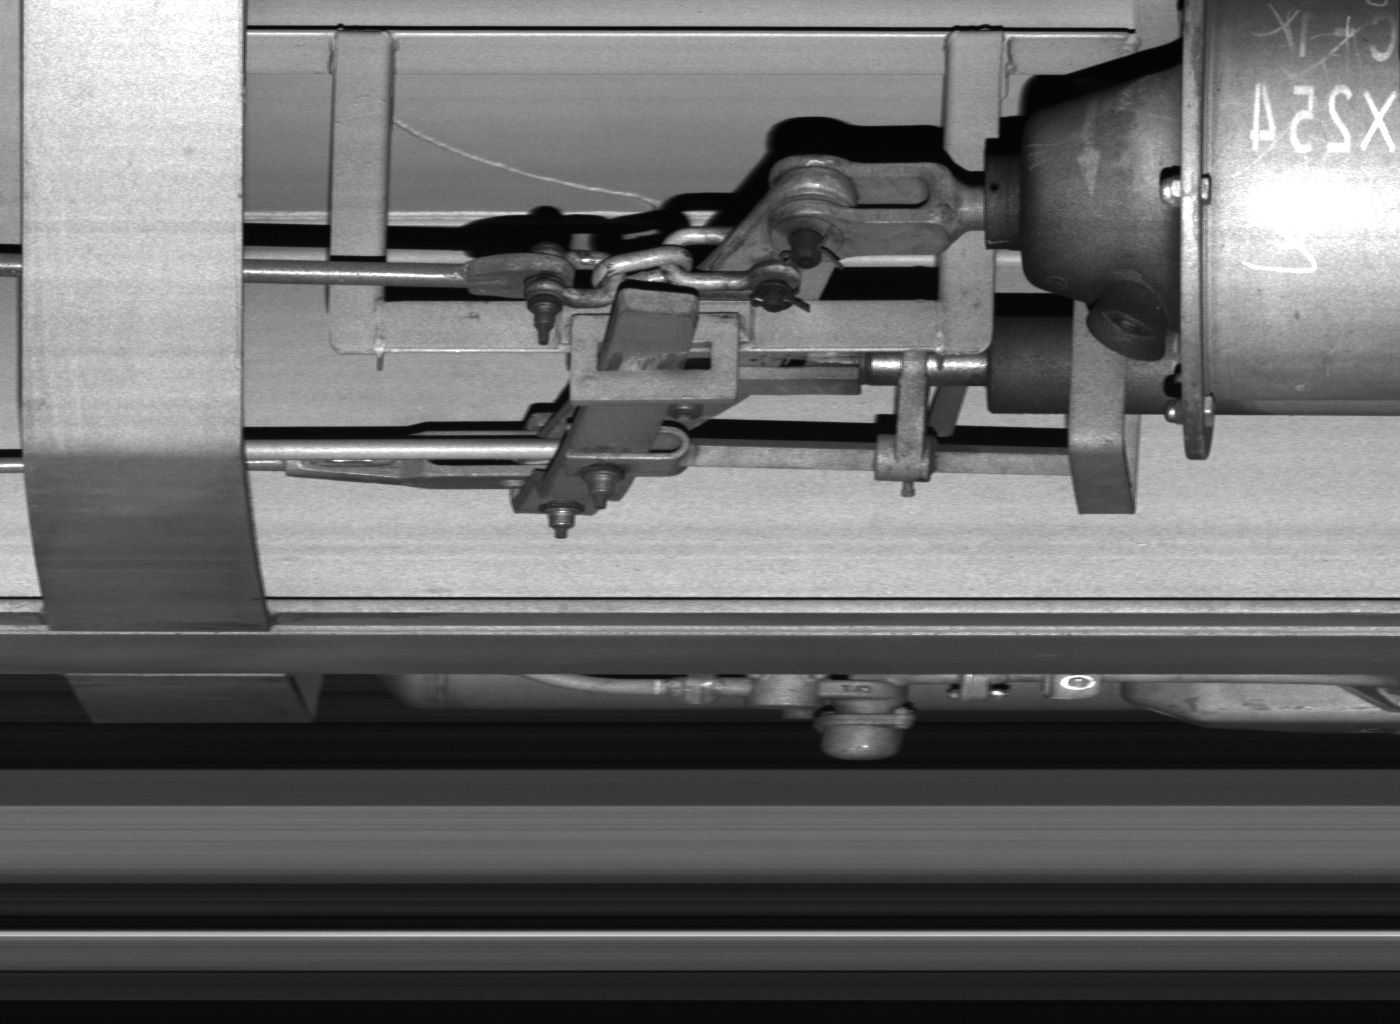normal: (811, 705, 918, 759)
